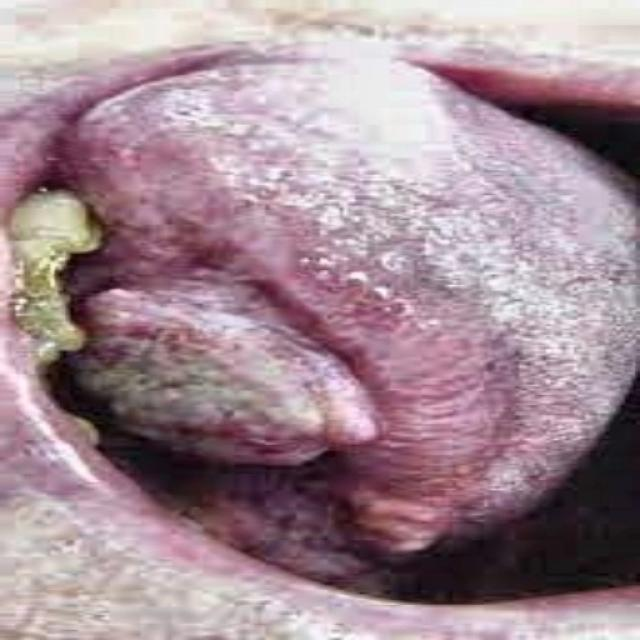cancer-detection: (69, 211, 517, 554)
processing_area: (1, 48, 639, 587)
